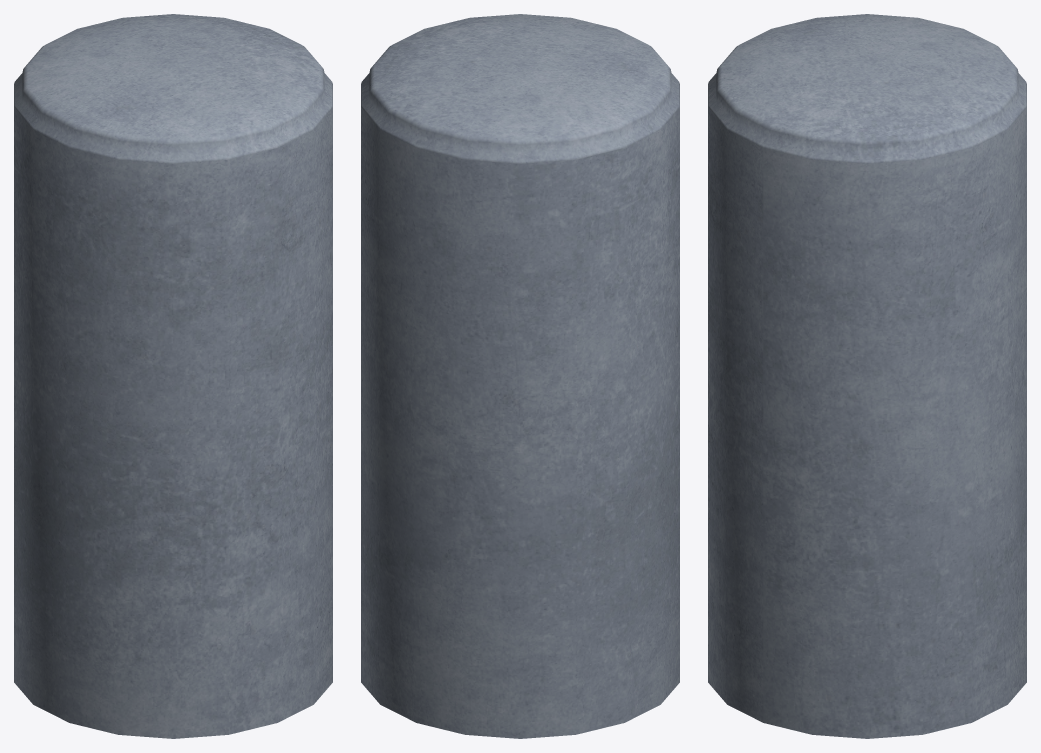
Rendered from p5_jar_blue.fbx.
3 views of the same model, side by side, from view 1: azimuth 30°, elevation 25°; view 2: azimuth 150°, elevation 25°; view 3: azimuth 270°, elevation 25° (orthographic).
Visible parts, largest first — view 1: P5_jar_blue; view 2: P5_jar_blue; view 3: P5_jar_blue.
Boxes of the visible parts, x1,y1,x2,y2 form: P5_jar_blue: [14, 14, 332, 738]; P5_jar_blue: [361, 14, 679, 738]; P5_jar_blue: [708, 14, 1026, 738].
Size of the model in its own units: 520 by 1079 by 512.
